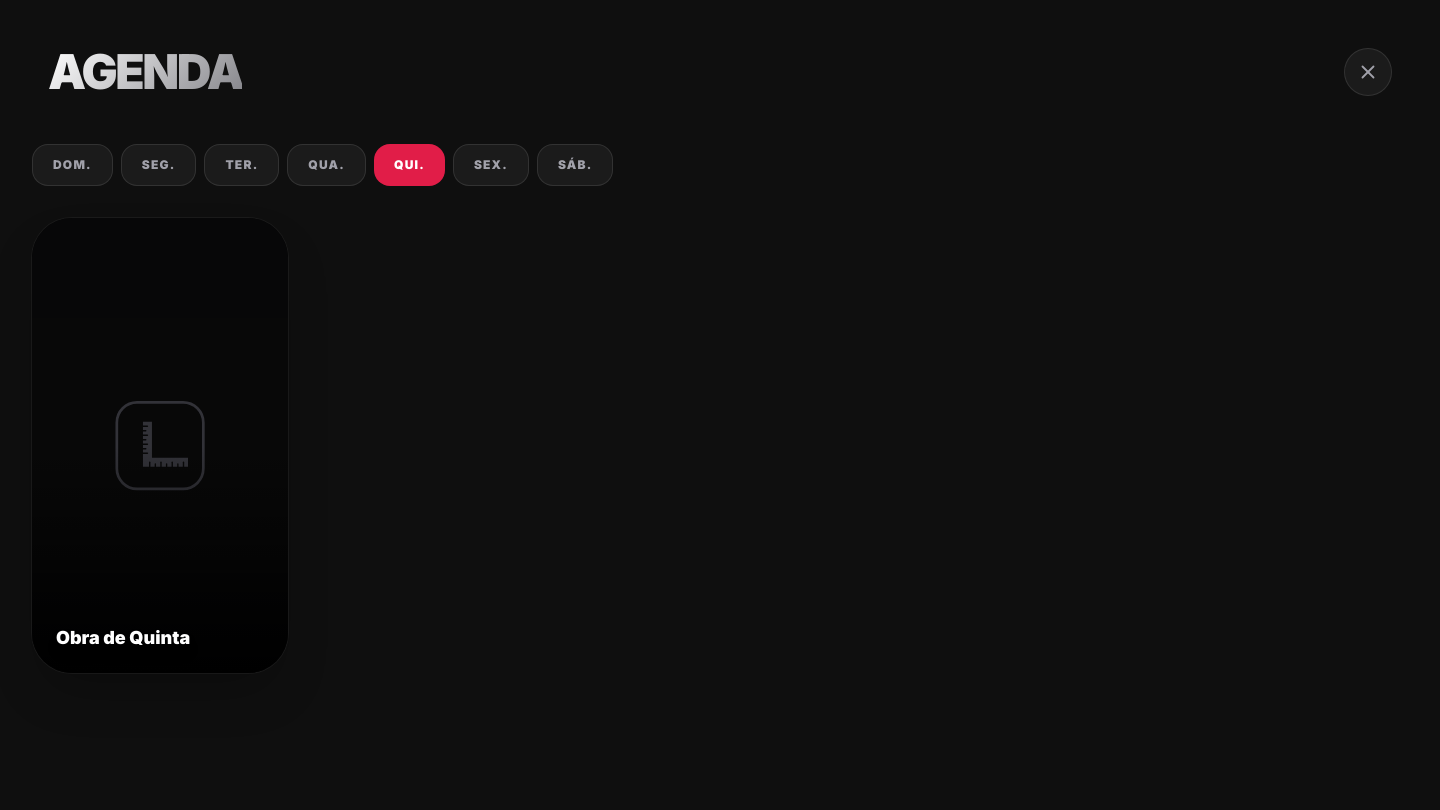
it: AgendaView — troca de dia › clicar em outro dia refiltra a grade de capas
Expected: the heading "Obra de Quinta" is shown, [56,627,190,648]
Expected: the text "Obra de Sexta" is not shown
Click the button with test id "agenda-day-5" at (491, 165), box [453,144,529,186]
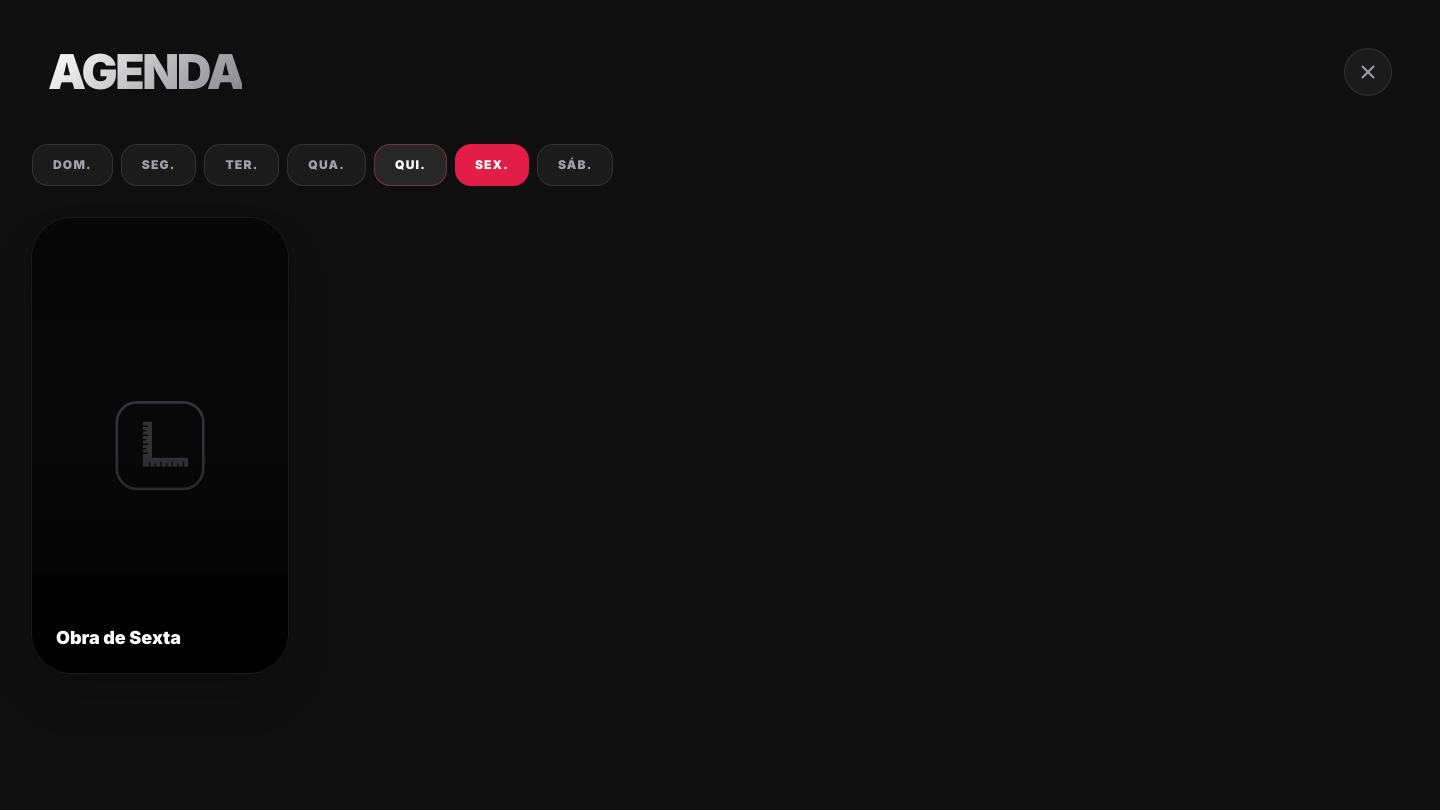
Result: the heading "Obra de Sexta" is shown at [56,627,181,648]
Result: the heading "Obra de Quinta" is gone
